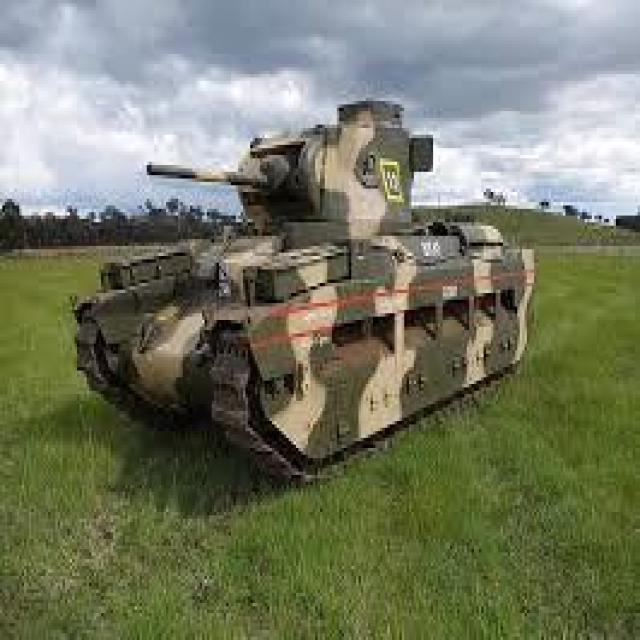Tanks: (72, 82, 534, 476)
